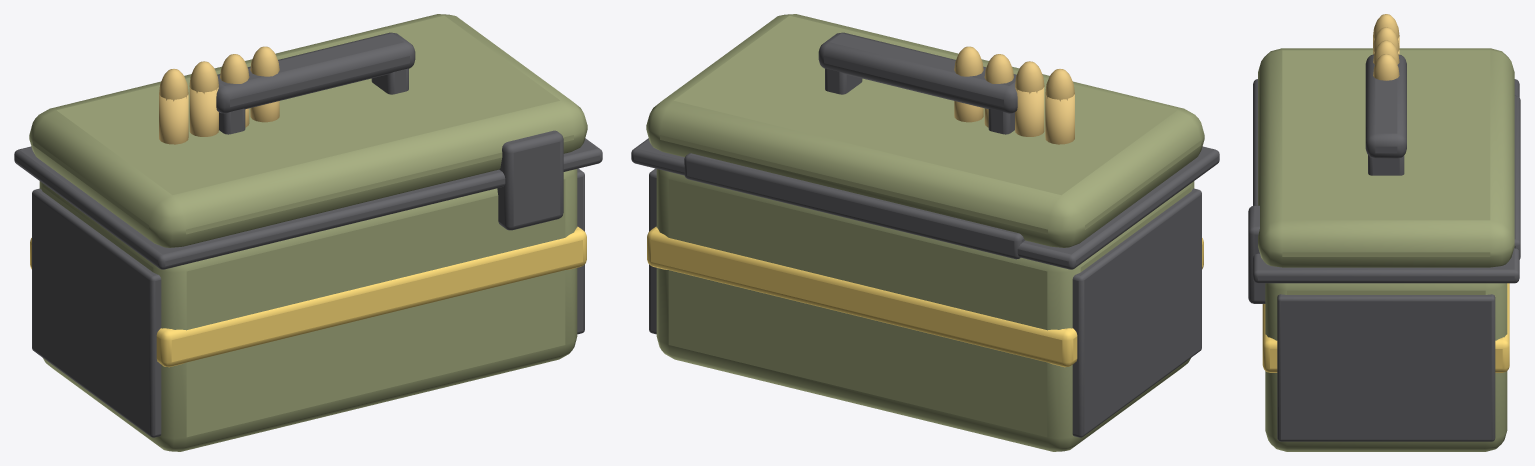
The model's file is ammo_box.glb.
The picture shows the model from 3 angles, left to right: view 1: azimuth 30°, elevation 25°; view 2: azimuth 150°, elevation 25°; view 3: azimuth 270°, elevation 25°; orthographic projection. The views are drawn at different scales.
Visible parts, largest first — view 1: Ammo Box; view 2: Ammo Box; view 3: Ammo Box.
Boxes of the visible parts, x1,y1,x2,y2 form: Ammo Box: [14, 14, 602, 451]; Ammo Box: [631, 14, 1219, 451]; Ammo Box: [1248, 14, 1520, 451].
Size of the model in its own units: 0.38 by 0.2676 by 0.225.
